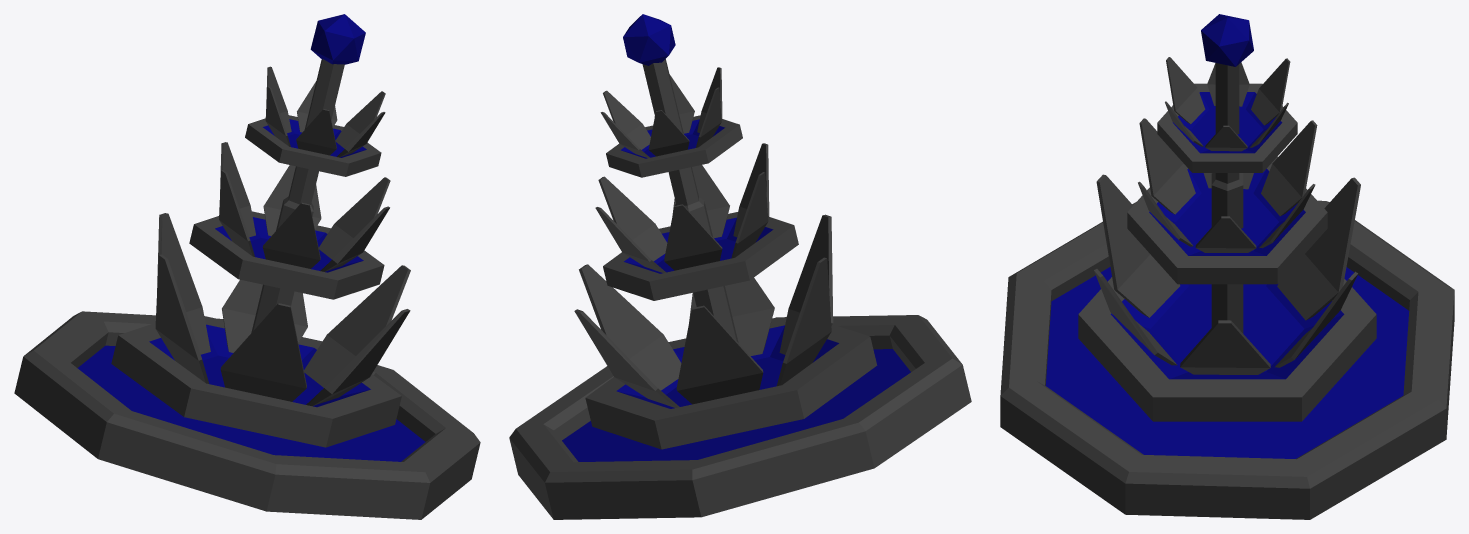
Rendered from turret_blue_2.glb.
3 renders of one model, left to right at view 1: azimuth 30°, elevation 25°; view 2: azimuth 150°, elevation 25°; view 3: azimuth 270°, elevation 25°, orthographic. The views are drawn at different scales.
Parts seen in each view (by area): view 1: BaseShieldTurret1_primitive0, Gun1ShieldTurret1_primitive0, Gun2ShieldTurret1_primitive0, BaseShieldTurret1_primitive1, Gun3ShieldTurret1_primitive0, MiddleShieldTurret1, Gun1ShieldTurret1_primitive1, StorageShieldTurret1, Gun2ShieldTurret1_primitive1, Gun3ShieldTurret1_primitive1; view 2: BaseShieldTurret1_primitive0, Gun1ShieldTurret1_primitive0, Gun2ShieldTurret1_primitive0, Gun3ShieldTurret1_primitive0, BaseShieldTurret1_primitive1, MiddleShieldTurret1, Gun1ShieldTurret1_primitive1, StorageShieldTurret1, Gun2ShieldTurret1_primitive1; view 3: BaseShieldTurret1_primitive0, Gun1ShieldTurret1_primitive0, BaseShieldTurret1_primitive1, Gun2ShieldTurret1_primitive0, Gun1ShieldTurret1_primitive1, Gun3ShieldTurret1_primitive0, Gun2ShieldTurret1_primitive1, MiddleShieldTurret1, Gun3ShieldTurret1_primitive1, StorageShieldTurret1.
Part boxes in pixels (x1,y1,x2,y2): BaseShieldTurret1_primitive0: (14, 311, 480, 519); Gun1ShieldTurret1_primitive0: (111, 213, 410, 447); Gun2ShieldTurret1_primitive0: (189, 142, 390, 299); BaseShieldTurret1_primitive1: (77, 345, 425, 461); Gun3ShieldTurret1_primitive0: (245, 66, 385, 176); MiddleShieldTurret1: (251, 59, 344, 332); Gun1ShieldTurret1_primitive1: (149, 324, 370, 407); StorageShieldTurret1: (310, 14, 365, 64); Gun2ShieldTurret1_primitive1: (215, 217, 363, 272); Gun3ShieldTurret1_primitive1: (263, 119, 366, 157); BaseShieldTurret1_primitive0: (509, 315, 971, 519); Gun1ShieldTurret1_primitive0: (574, 214, 877, 449); Gun2ShieldTurret1_primitive0: (595, 143, 798, 300); Gun3ShieldTurret1_primitive0: (600, 67, 742, 177); BaseShieldTurret1_primitive1: (562, 349, 910, 461); MiddleShieldTurret1: (642, 59, 738, 342); Gun1ShieldTurret1_primitive1: (616, 325, 838, 408); StorageShieldTurret1: (623, 14, 675, 65); Gun2ShieldTurret1_primitive1: (624, 217, 773, 273); BaseShieldTurret1_primitive0: (1000, 200, 1454, 519); Gun1ShieldTurret1_primitive0: (1078, 174, 1376, 421); BaseShieldTurret1_primitive1: (1045, 267, 1409, 458); Gun2ShieldTurret1_primitive0: (1127, 118, 1327, 284); Gun1ShieldTurret1_primitive1: (1110, 284, 1344, 379); Gun3ShieldTurret1_primitive0: (1157, 57, 1297, 172); Gun2ShieldTurret1_primitive1: (1149, 168, 1305, 255); MiddleShieldTurret1: (1211, 63, 1243, 333); Gun3ShieldTurret1_primitive1: (1172, 92, 1282, 153); StorageShieldTurret1: (1201, 14, 1253, 66).
Bounding box in the file's own units: 0.8728 × 0.9872 × 0.8823.
